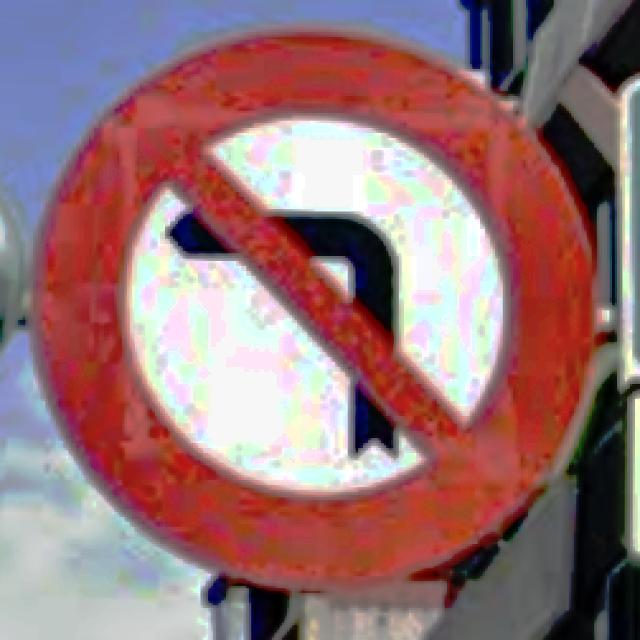noturnleft: (33, 27, 597, 593)
